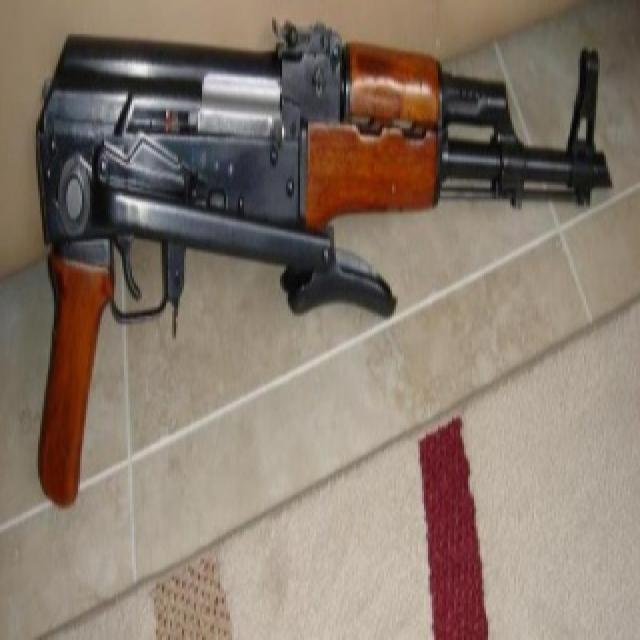weapon: (24, 12, 612, 510)
